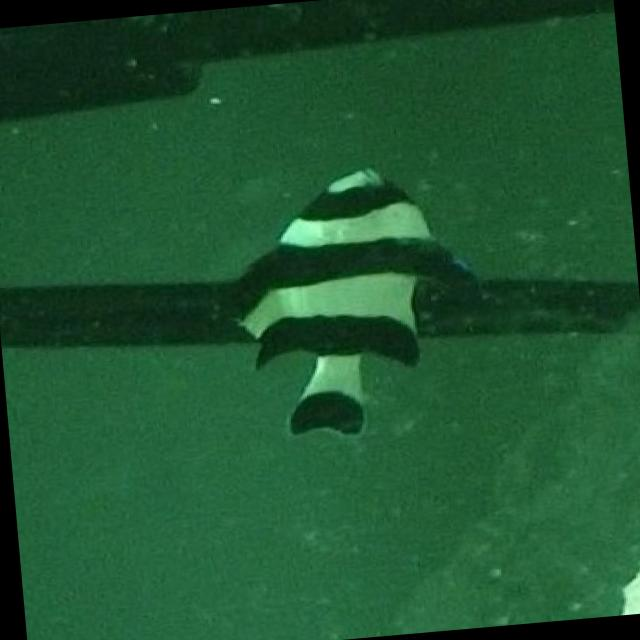ThreeStripedDamselfish: (208, 156, 491, 452)
